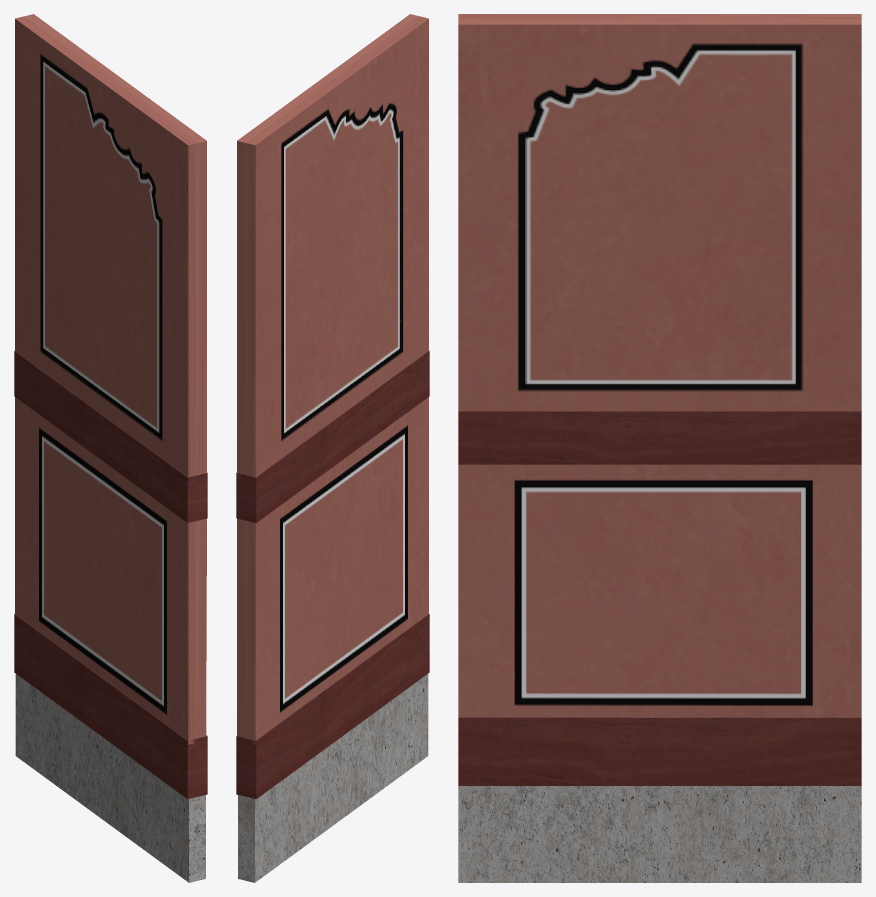
The model's file is SM_Wall03F.fbx.
3 views of the same model, side by side, from view 1: azimuth 30°, elevation 25°; view 2: azimuth 150°, elevation 25°; view 3: azimuth 270°, elevation 25° (orthographic). The views are drawn at different scales.
Visible parts, largest first — view 1: SM_Wall03F; view 2: SM_Wall03F; view 3: SM_Wall03F.
Boxes of the visible parts, bbox=[...] form: SM_Wall03F: bbox=[14, 14, 207, 882]; SM_Wall03F: bbox=[236, 14, 429, 882]; SM_Wall03F: bbox=[458, 14, 861, 882].
Bounding box in the file's own units: 8.99 × 135 × 317.
